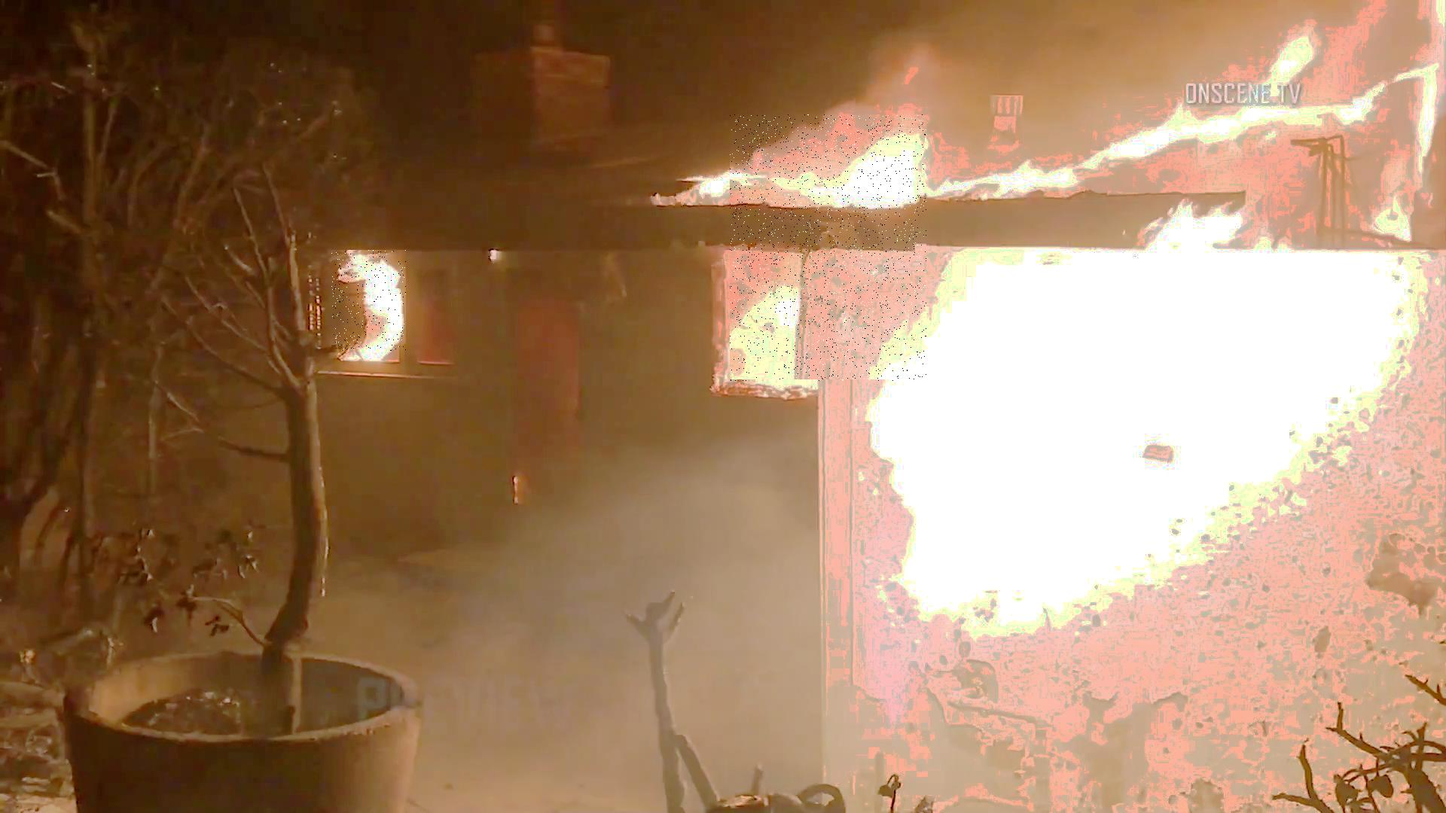fire: (730, 115, 927, 381), (332, 251, 406, 351)
